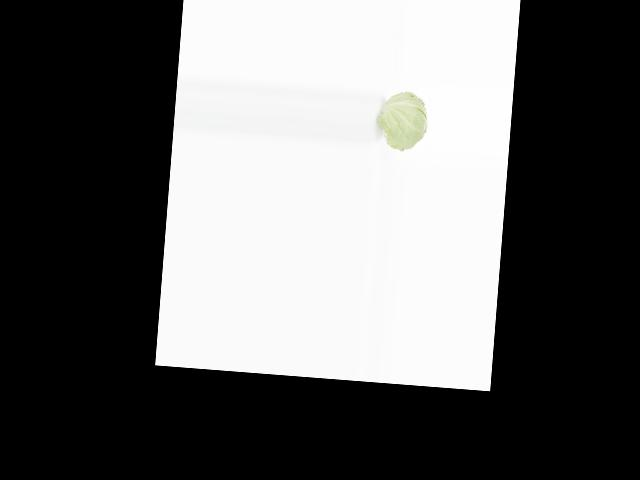lettuce: (381, 86, 430, 154)
